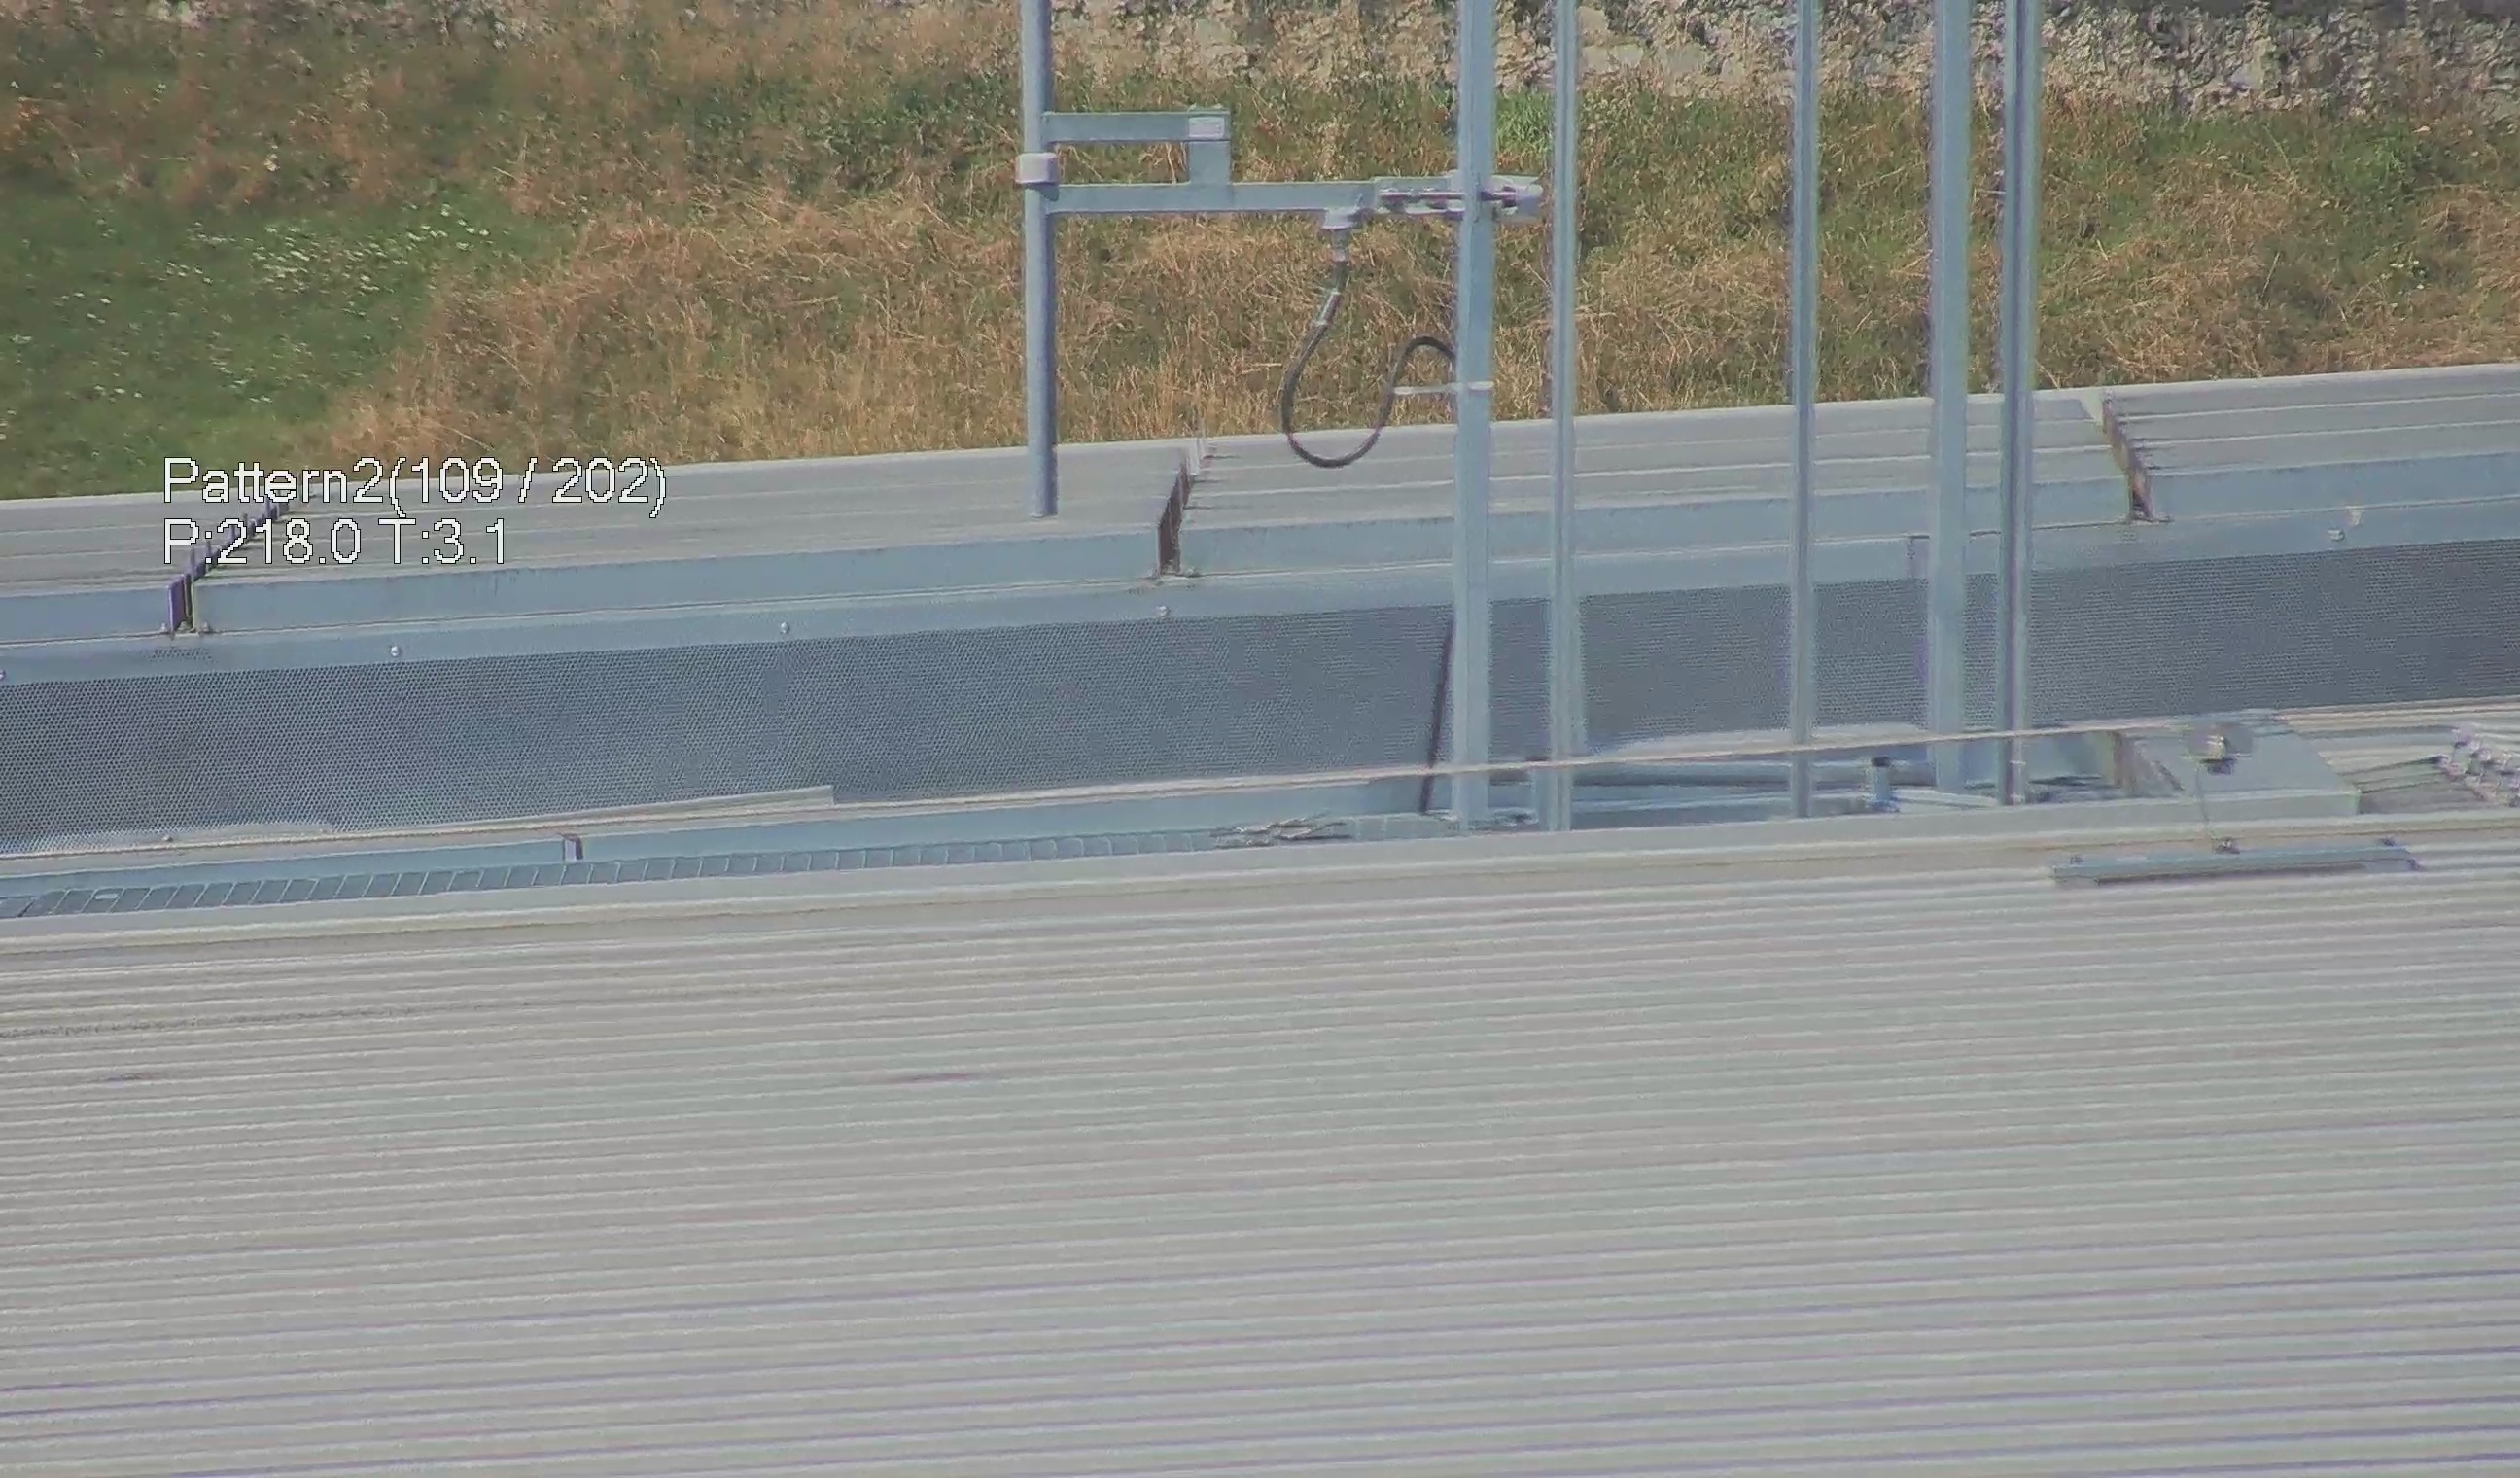Other: (1143, 435, 1213, 579)
